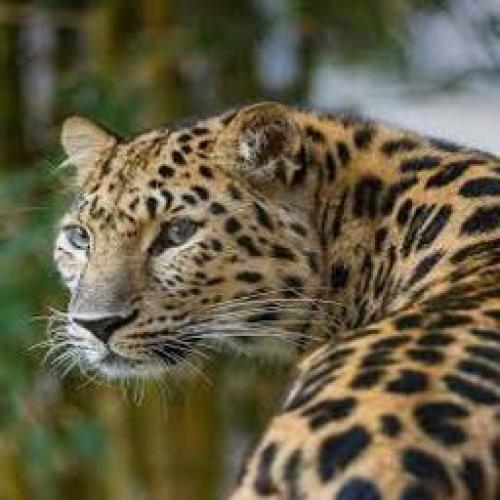amur_leopard-endangered: (51, 98, 500, 500)
